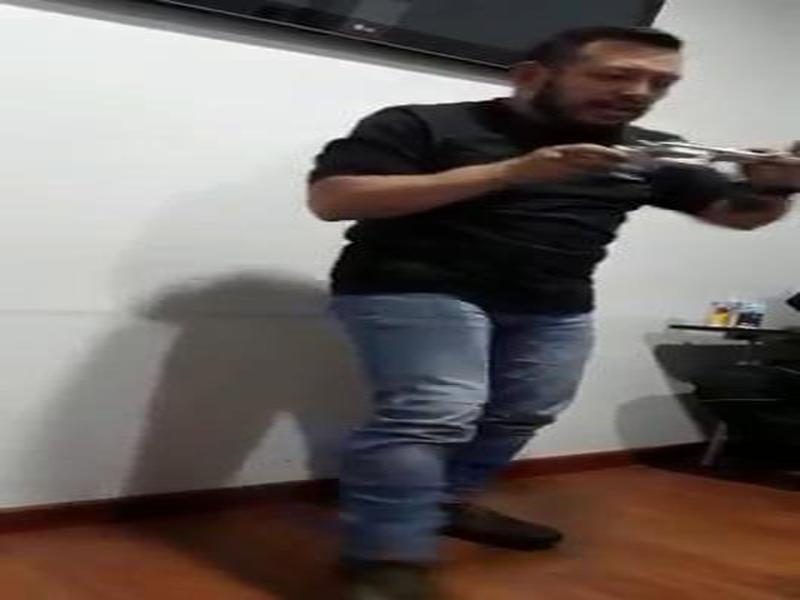Revolver: (586, 97, 791, 211)
